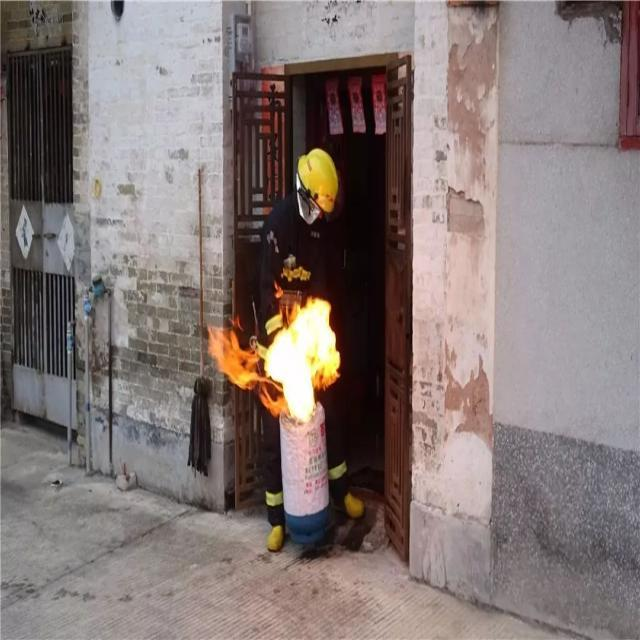Fire: (207, 296, 340, 420)
